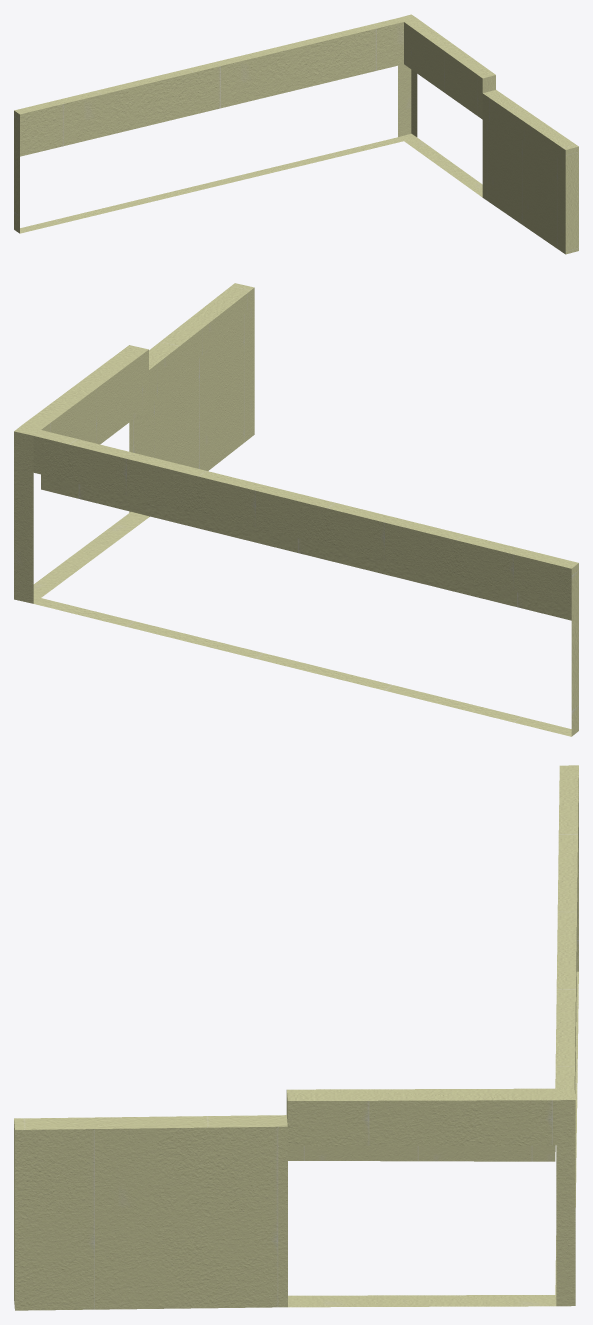
File: south_bar_wall.fbx
The picture shows the model from 3 angles, top to bottom: view 1: azimuth 30°, elevation 25°; view 2: azimuth 150°, elevation 25°; view 3: azimuth 270°, elevation 25°; orthographic projection. The views are drawn at different scales.
Visible parts, largest first — view 1: south_bar_wall; view 2: south_bar_wall; view 3: south_bar_wall.
Boxes of the visible parts, <box> form: south_bar_wall: <box>14,14,578,254</box>; south_bar_wall: <box>14,283,578,736</box>; south_bar_wall: <box>14,765,578,1310</box>.
Size of the model in its own units: 23.91 by 6.78 by 16.84.
1 material, 1 textured.
